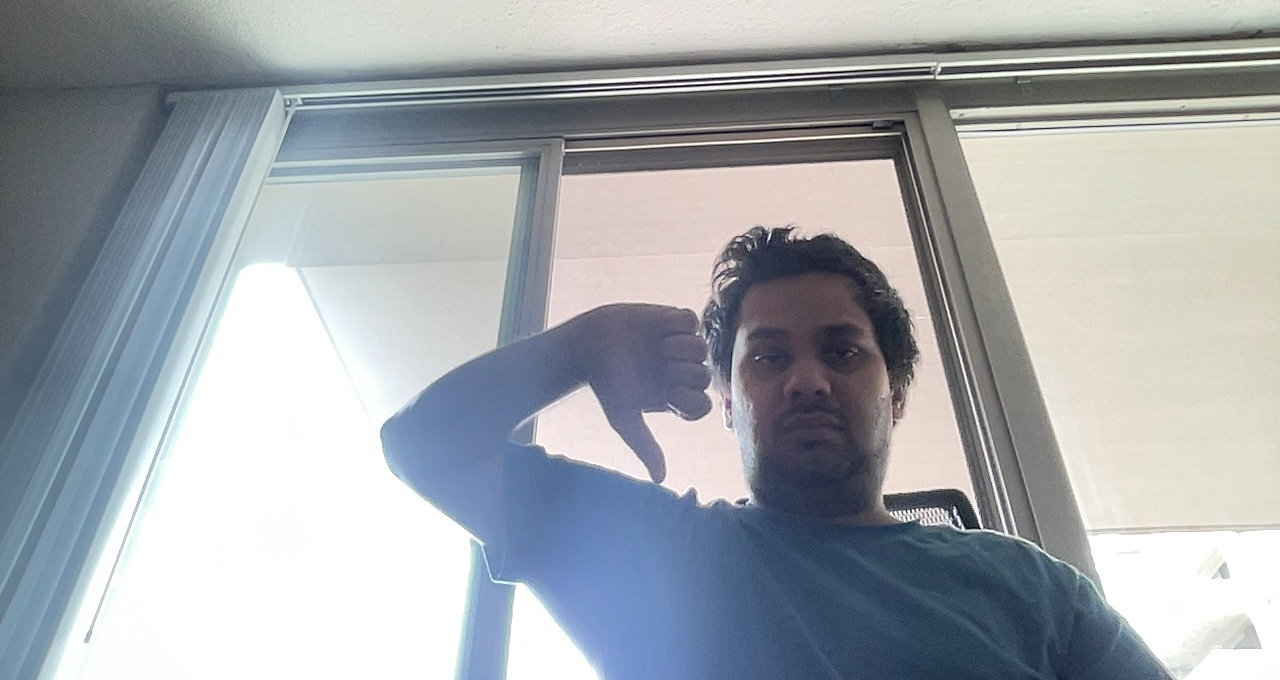thumbsdown: (570, 297, 704, 481)
